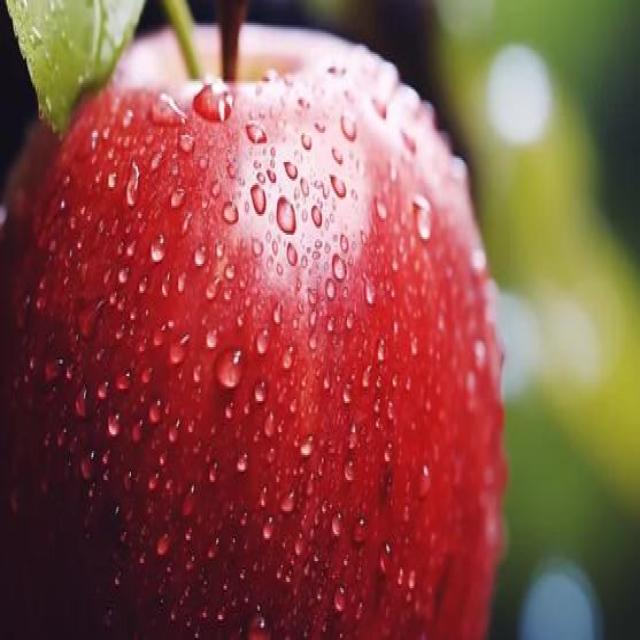fruit: (2, 16, 516, 640)
